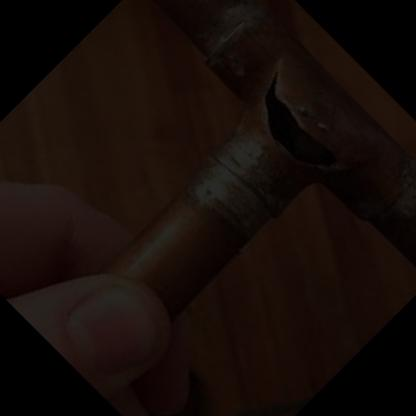burst: (263, 64, 348, 188)
